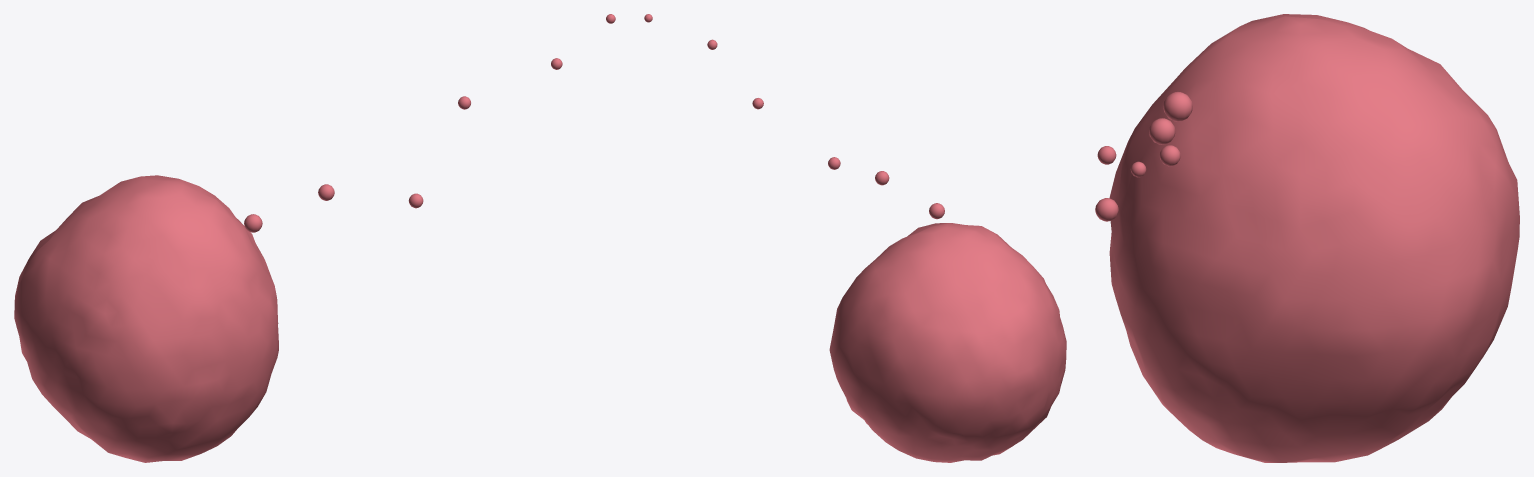
The model's file is yarn_ball.glb.
3 renders of one model, left to right at view 1: azimuth 30°, elevation 25°; view 2: azimuth 150°, elevation 25°; view 3: azimuth 270°, elevation 25°, orthographic. The views are drawn at different scales.
Visible parts, largest first — view 1: Ball; view 2: Ball; view 3: Ball, ThreadBead1, ThreadBead2, ThreadBead3.
Boxes of the visible parts, <box> form: Ball: <box>14,175,278,462</box>; Ball: <box>829,223,1066,462</box>; Ball: <box>1109,14,1519,462</box>; ThreadBead1: <box>1163,92,1192,121</box>; ThreadBead2: <box>1149,118,1175,144</box>; ThreadBead3: <box>1095,198,1118,221</box>.
Bounding box in the file's own units: 0.2451 × 0.1612 × 0.1076.
